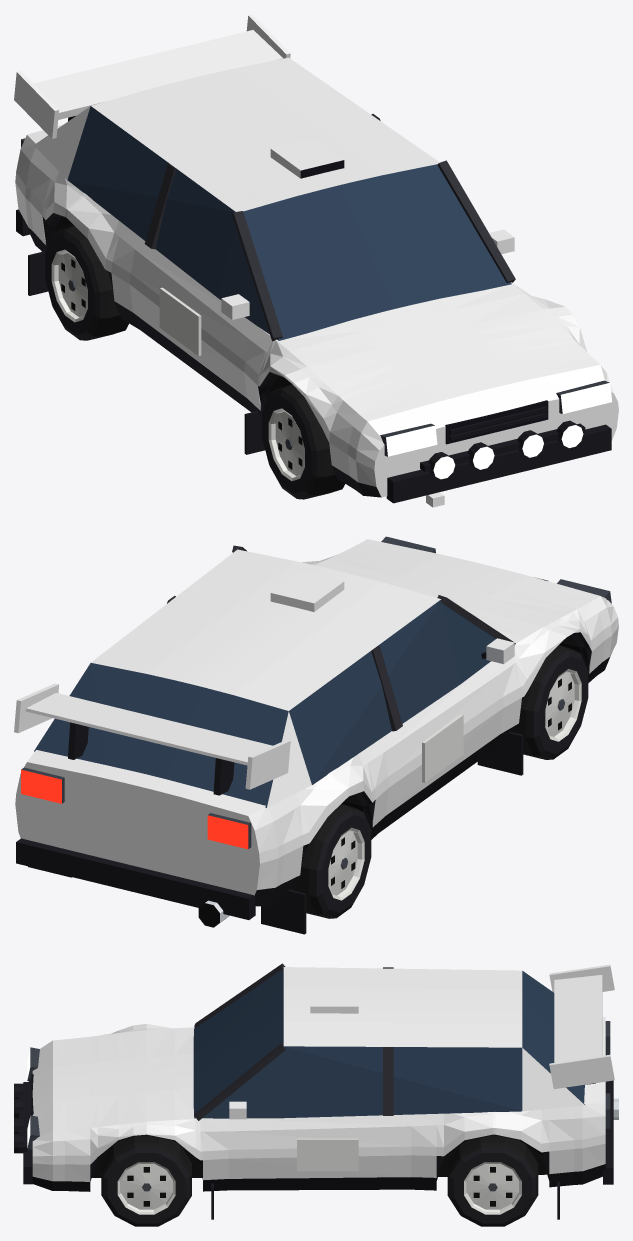
Rendered from rally.glb.
3 views of the same model, one above another, from view 1: azimuth 30°, elevation 25°; view 2: azimuth 150°, elevation 25°; view 3: azimuth 270°, elevation 25° (orthographic). The views are drawn at different scales.
Parts seen in each view (by area): view 1: paint, glass, stripe_a, trim, accent, white (×3), tire_side (×2), trim_soft, tire (×2), headlight, stripe_b, trim_grille (+1 smaller); view 2: paint, glass, stripe_a, trim, accent, white (×3), tire_side (×2), stripe_b, tire (×2), mud, taillight, trim_soft (+2 smaller); view 3: paint, glass, stripe_a, trim, white (×3), tire_side (×2), accent, stripe_b, tire (×2), trim_soft, chrome_housing, trim_under.
Part boxes in pixels (left/top/right/bottom): paint: left=15, top=57, right=618, bottom=497; glass: left=67, top=106, right=511, bottom=340; stripe_a: left=146, top=68, right=539, bottom=423; trim: left=16, top=116, right=611, bottom=503; accent: left=14, top=14, right=444, bottom=507; white (×3): left=51, top=249, right=304, bottom=481; tire_side (×2): left=45, top=230, right=344, bottom=498; trim_soft: left=144, top=114, right=515, bottom=341; tire (×2): left=53, top=226, right=344, bottom=499; headlight: left=386, top=383, right=612, bottom=479; stripe_b: left=15, top=172, right=576, bottom=469; trim_grille: left=300, top=160, right=548, bottom=444; paint: left=15, top=539, right=618, bottom=895; glass: left=34, top=599, right=495, bottom=807; stripe_a: left=94, top=554, right=527, bottom=796; trim: left=16, top=632, right=611, bottom=919; accent: left=14, top=683, right=290, bottom=789; white (×3): left=328, top=669, right=581, bottom=900; tire_side (×2): left=316, top=650, right=588, bottom=918; stripe_b: left=259, top=618, right=618, bottom=863; tire (×2): left=294, top=645, right=580, bottom=918; mud: left=28, top=732, right=523, bottom=934; taillight: left=21, top=769, right=248, bottom=849; trim_soft: left=167, top=545, right=515, bottom=731; paint: left=32, top=967, right=605, bottom=1181; glass: left=193, top=968, right=584, bottom=1118; stripe_a: left=33, top=987, right=605, bottom=1110; trim: left=14, top=1079, right=613, bottom=1191; white (×3): left=117, top=1138, right=521, bottom=1214; tire_side (×2): left=103, top=1147, right=536, bottom=1226; accent: left=549, top=964, right=614, bottom=1089; stripe_b: left=32, top=1128, right=605, bottom=1164; tire (×2): left=101, top=1135, right=538, bottom=1215; trim_soft: left=194, top=963, right=393, bottom=1120; chrome_housing: left=27, top=1021, right=610, bottom=1149; trim_under: left=92, top=1140, right=546, bottom=1177.
Size of the model in its own units: 1.94 by 1.46 by 4.51.
